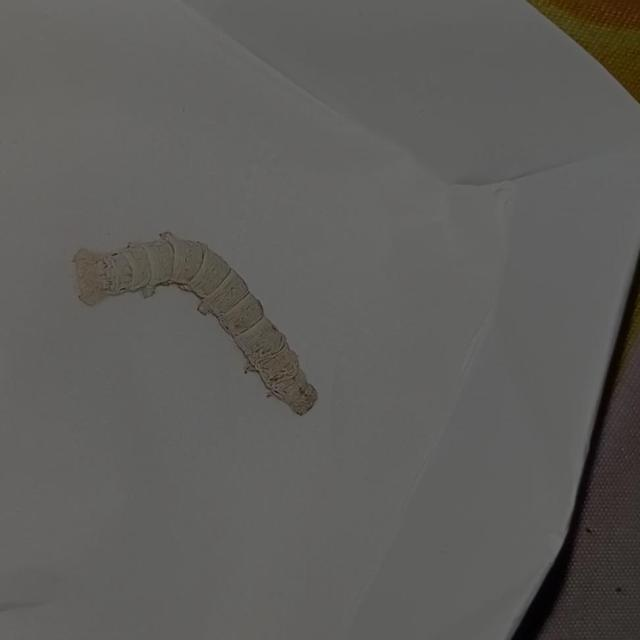Healthy: (70, 221, 322, 424)
